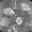people: (3, 7, 15, 16), (1, 17, 12, 26), (15, 17, 22, 26)
